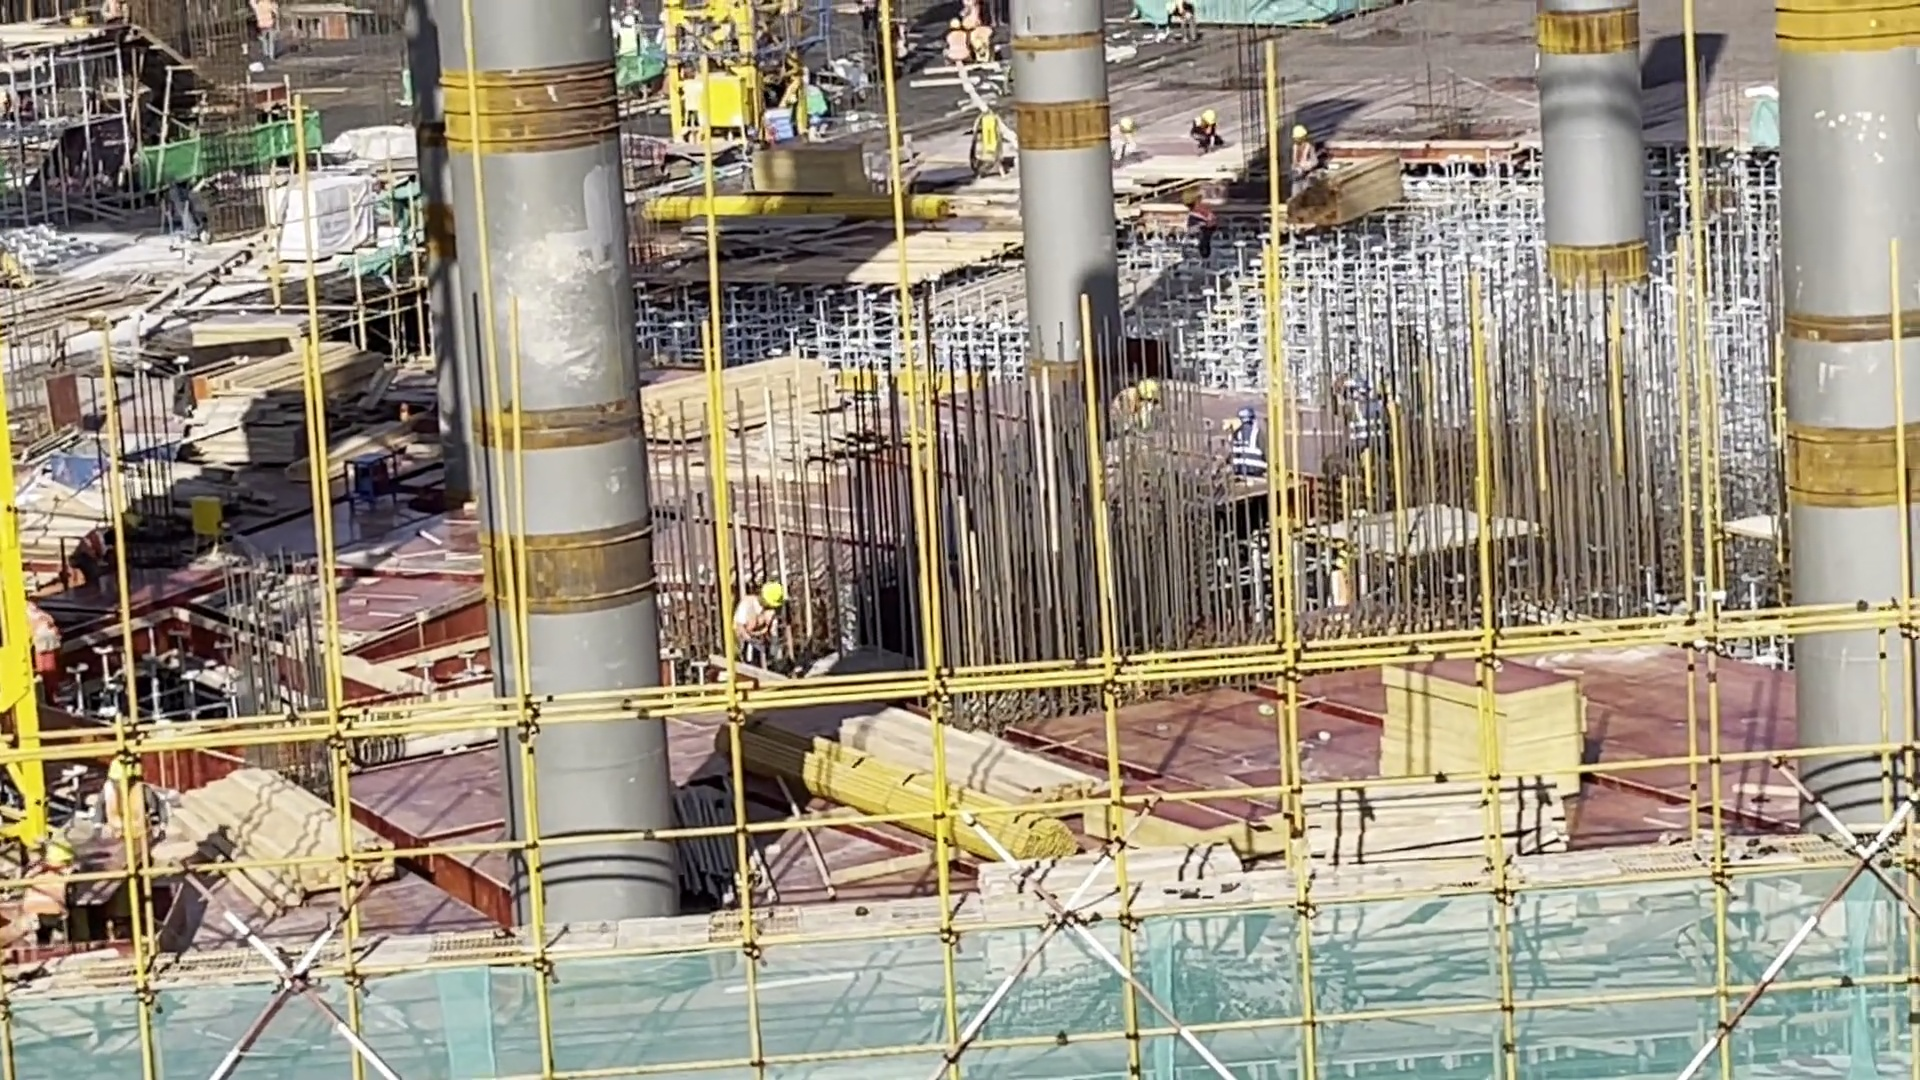ebox: (693, 75, 752, 136), (185, 483, 228, 543), (968, 114, 1006, 177)
helmet: (758, 574, 788, 613), (106, 754, 138, 779), (1129, 378, 1163, 402), (1287, 115, 1312, 144), (1233, 404, 1263, 425), (1198, 106, 1217, 125), (948, 14, 963, 28)
person: (103, 749, 148, 865), (743, 582, 792, 657), (1103, 372, 1158, 439), (1283, 127, 1329, 185), (1230, 405, 1263, 481), (940, 9, 976, 68), (1188, 110, 1224, 148)
vest: (96, 788, 154, 848), (1232, 428, 1264, 470), (743, 595, 772, 641), (1294, 143, 1316, 175), (947, 32, 971, 59)
wood: (169, 770, 403, 914), (650, 378, 833, 440)
